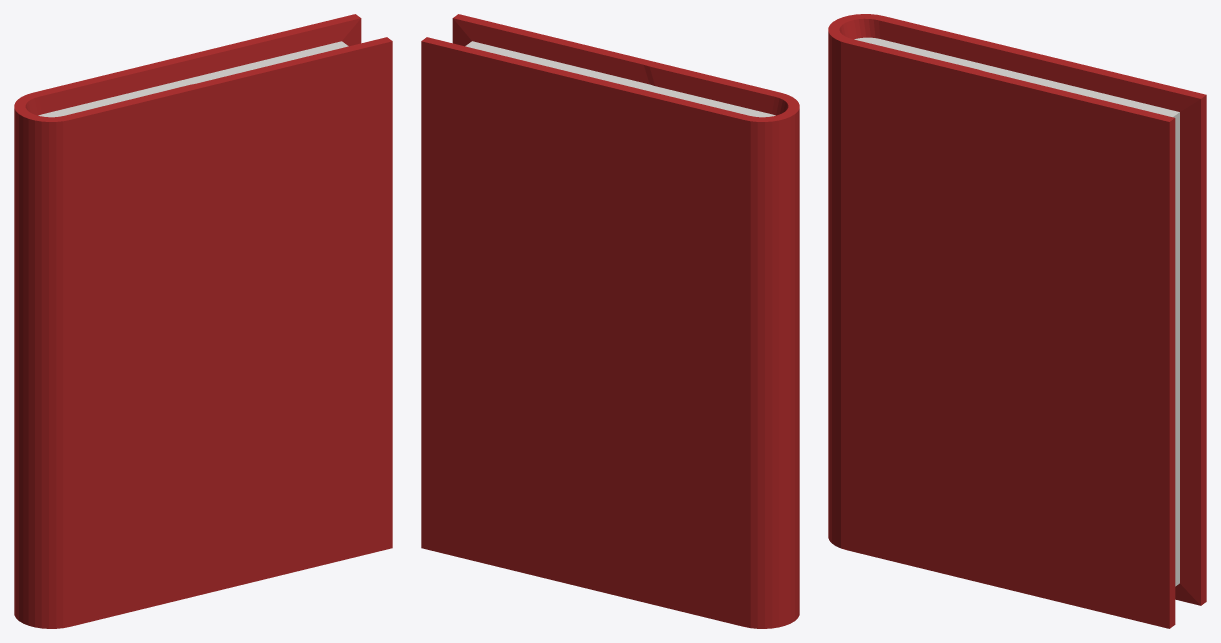
The model's file is Book2.fbx.
The picture shows the model from 3 angles, left to right: view 1: azimuth 30°, elevation 25°; view 2: azimuth 150°, elevation 25°; view 3: azimuth 330°, elevation 25°; orthographic projection.
Visible parts, largest first — view 1: Cylinder; view 2: Cylinder; view 3: Cylinder.
Part boxes in pixels (x1,y1,x2,y2): Cylinder: (14, 14, 392, 628); Cylinder: (421, 14, 799, 628); Cylinder: (828, 14, 1206, 628).
Size of the model in its own units: 1101 by 1503 by 200.
